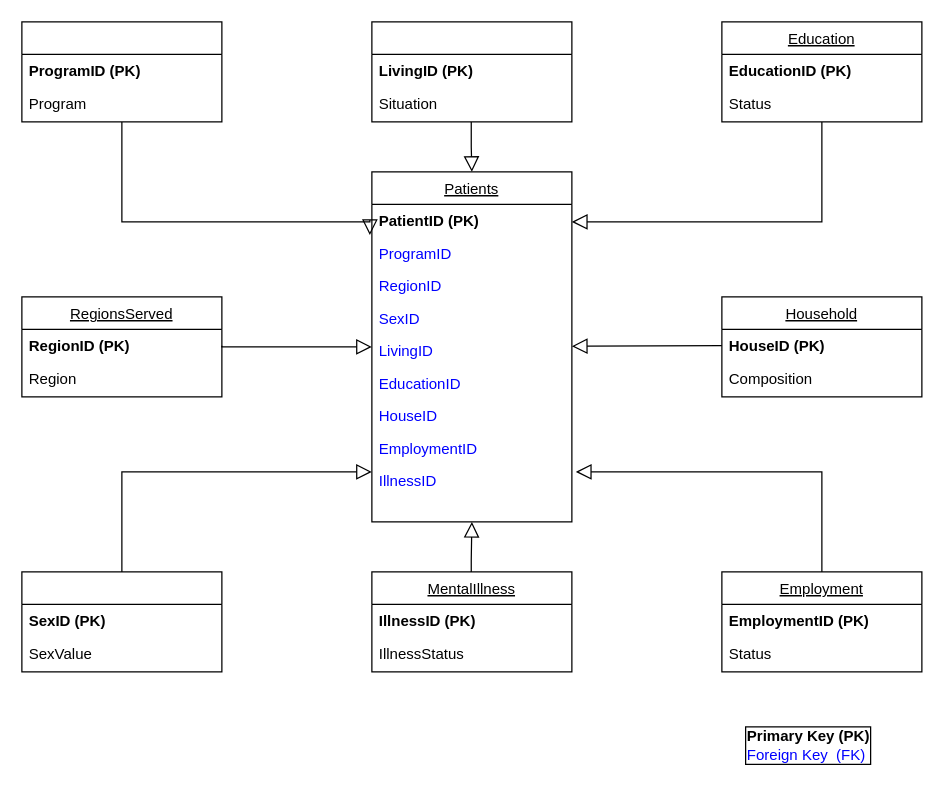
Some shapes in this 944 by 794 pixel diagram are drawn without their labels. Each missing label, with the box of its shape:
LivingSit: (371, 21, 572, 122)
ProgramCategory: (21, 21, 222, 122)
SexTable: (21, 571, 222, 672)
